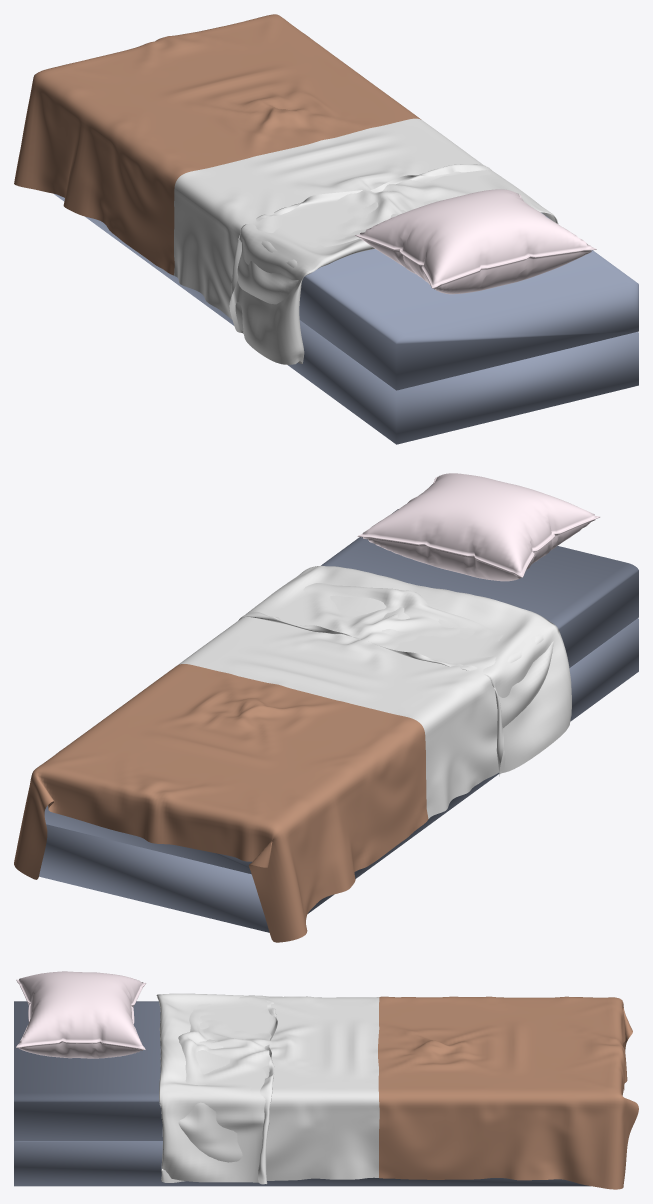
Rendered from kasur.fbx.
3 renders of one model, top to bottom at view 1: azimuth 30°, elevation 25°; view 2: azimuth 150°, elevation 25°; view 3: azimuth 270°, elevation 25°, orthographic. The views are drawn at different scales.
Parts seen in each view (by area): view 1: Plane.009; view 2: Plane.009; view 3: Plane.009.
Boxes of the visible parts, x1,y1,x2,y2 form: Plane.009: (14, 14, 638, 444); Plane.009: (14, 473, 638, 942); Plane.009: (14, 971, 638, 1189).
Size of the model in its own units: 130 by 76.27 by 278.
